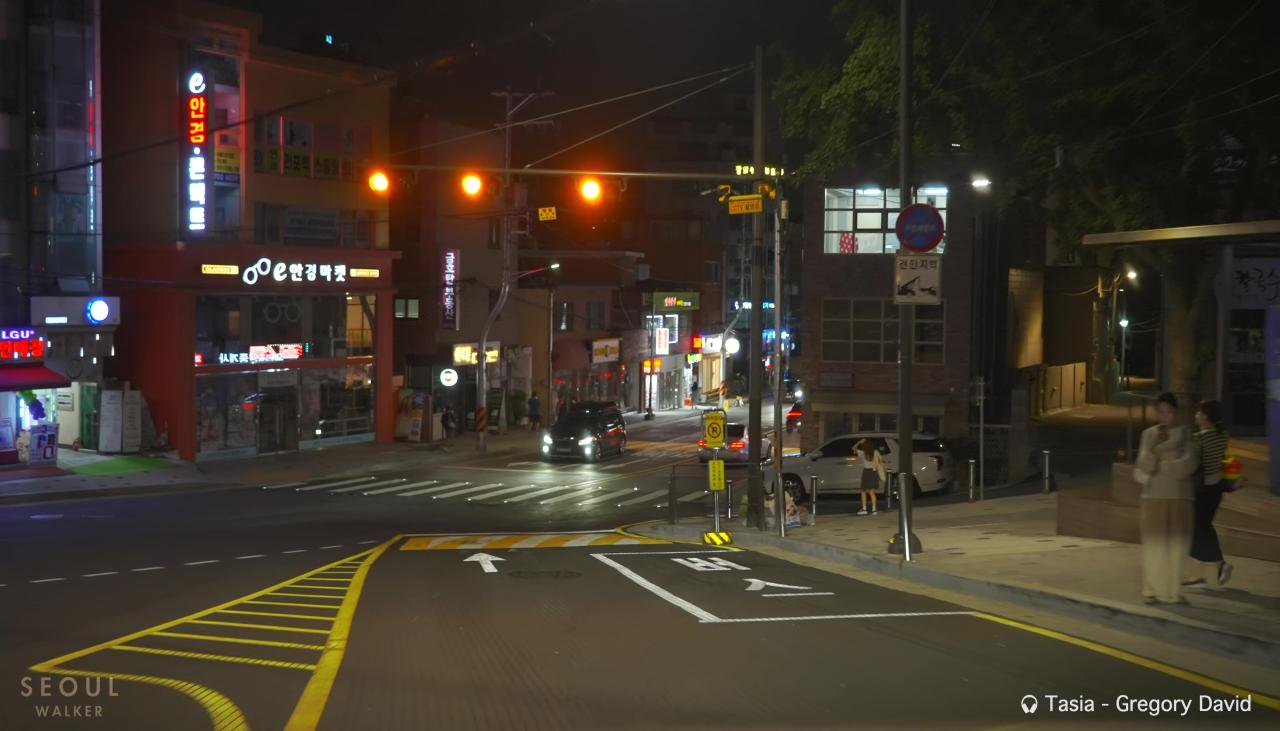Yellow Light: (580, 179, 602, 202), (368, 171, 390, 193), (461, 172, 482, 195)
